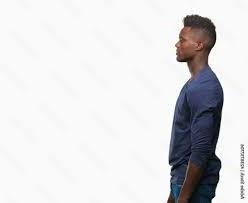Human: (155, 6, 239, 203)
